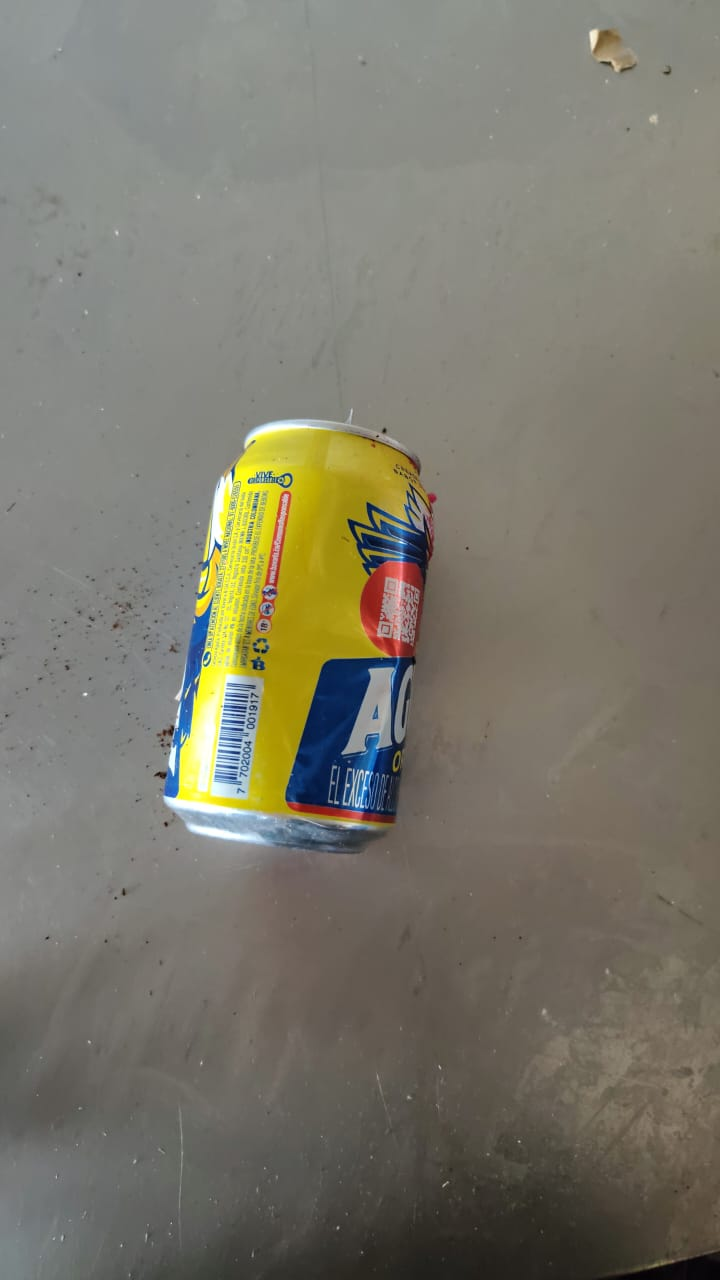Metal: (159, 418, 434, 857)
